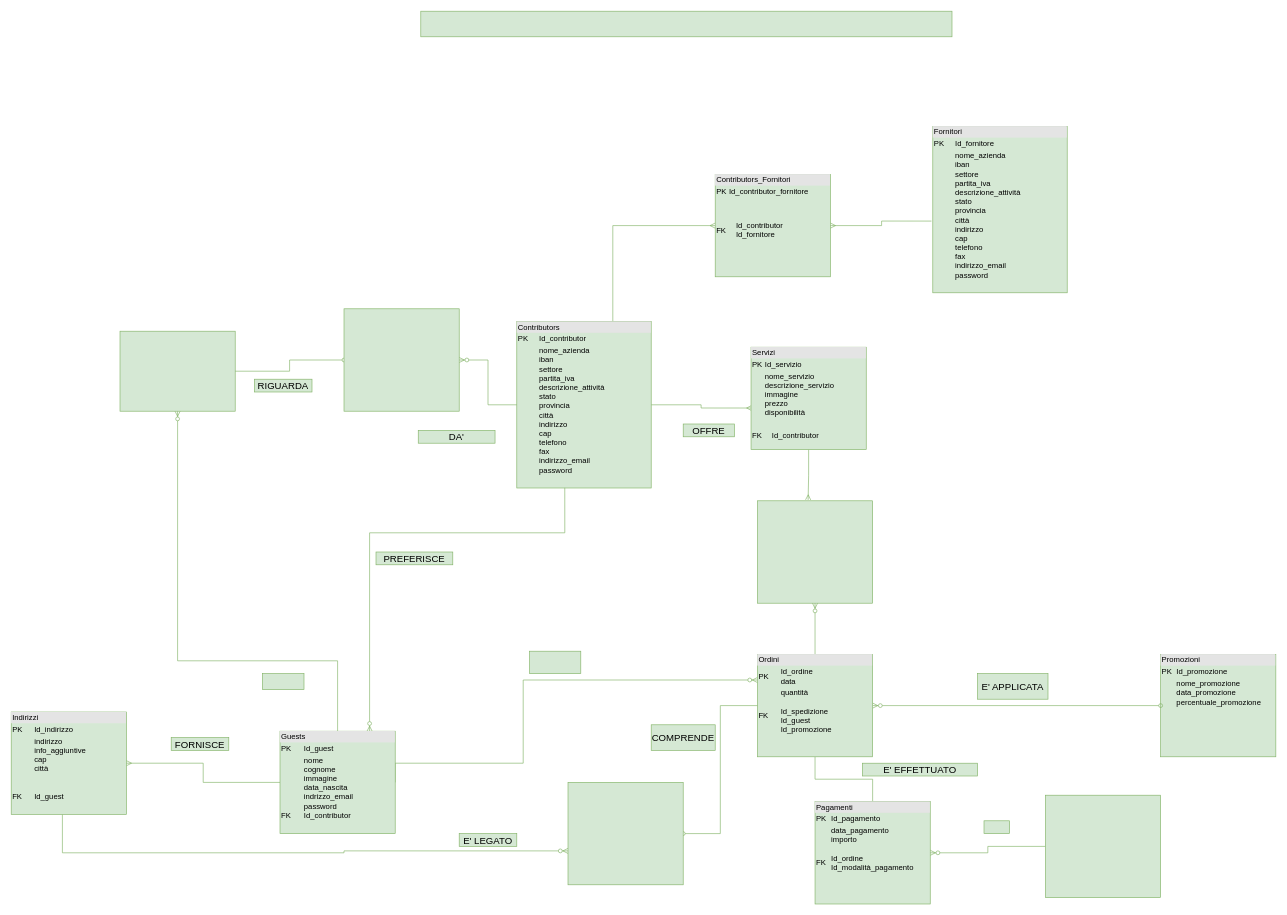
Some shapes in this 1287 by 915 pixel diagram are drawn without their labels. Here are the shapes that lost their labels. From the top down, the centre of each, then its label:
At pixel 686 24: "SCHEMA LOGICO".
At pixel 177 371: "Domande PK Id_domanda FK domanda data_domanda Id_risposta Id_guest".
At pixel 401 359: "Risposte PK Id_risposta risposta data_risposta FK Id_contributor".
At pixel 815 551: "Servizi_Ordini PK Id_servizio_ordine FK data Id_ordine Id_servizio".
At pixel 283 681: "PONE".
At pixel 555 662: "EFFETTUA".
At pixel 625 833: "Spedizioni PK Id_spedizione FK data Id_indirizzo".
At pixel 996 827: "HA".
At pixel 1103 846: "Modalità_Pagamenti PK Id_modalità_pagamento nome_modalità".
